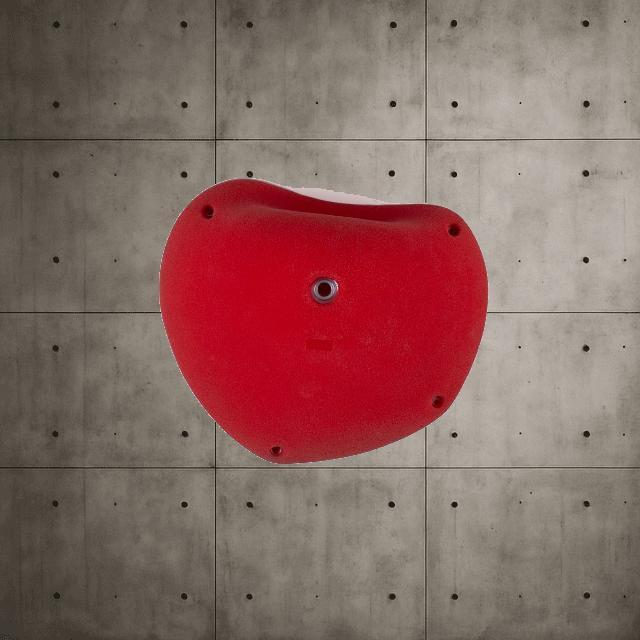Sloper: (157, 180, 488, 464)
